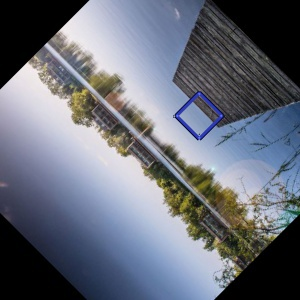square: (173, 90, 225, 141)
